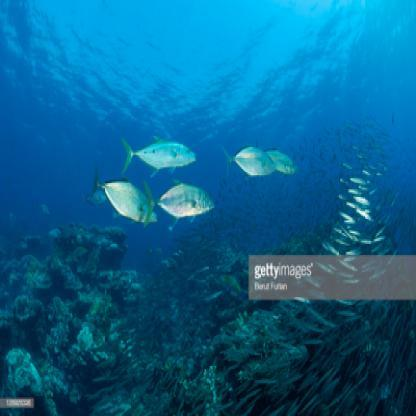Bio: (88, 160, 160, 232), (113, 124, 198, 176), (136, 172, 218, 219), (216, 132, 277, 184)
